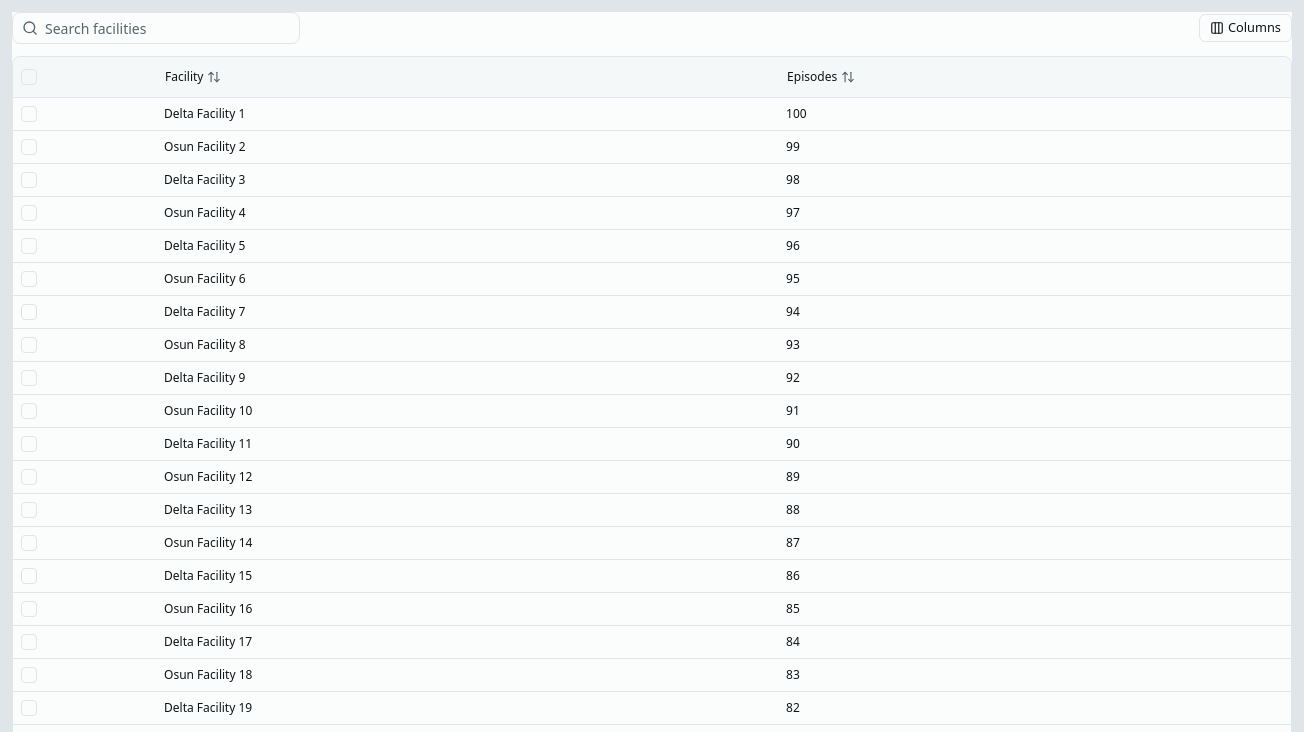
Scenario: DataTable › sorts a column when its header is clicked, and marks the header
Click the button "Episodes": (821,77) [778,63,864,91]
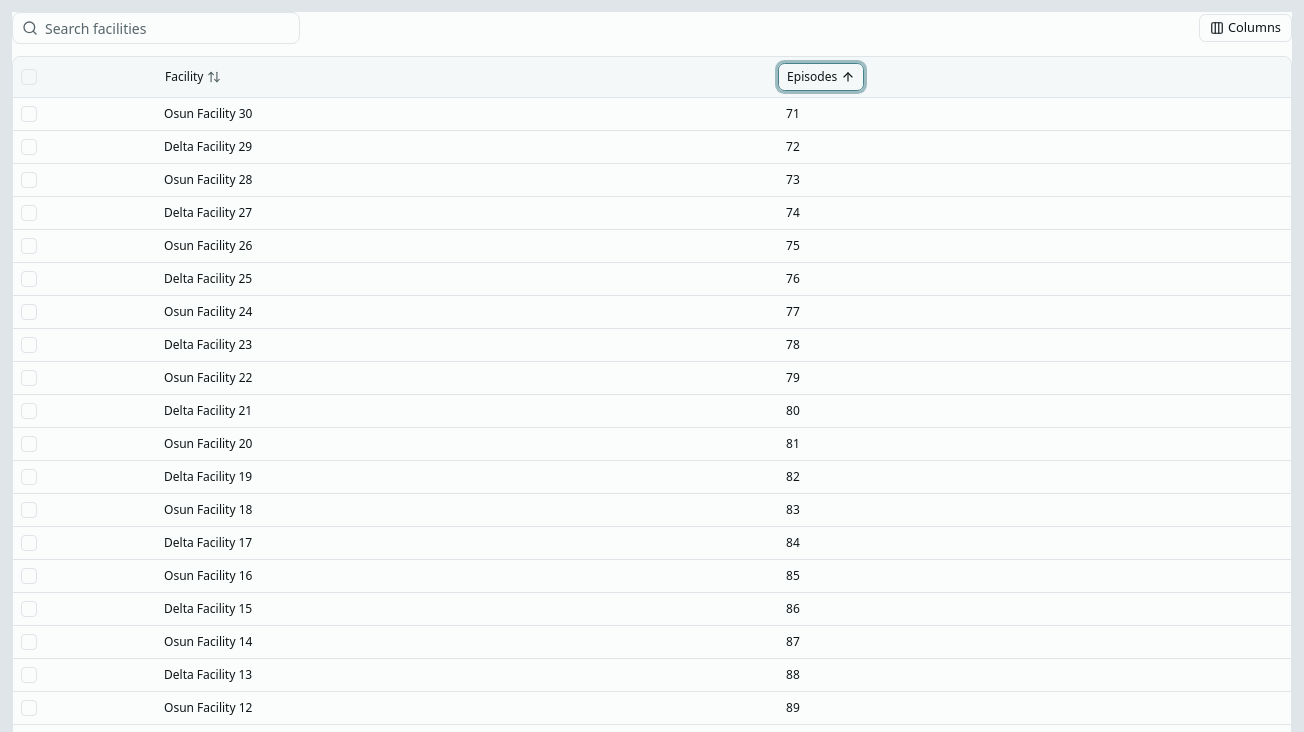
Expected: the text "71" is shown, [778,98,1291,130]
Click the button "Episodes": (821,77) [778,63,864,91]
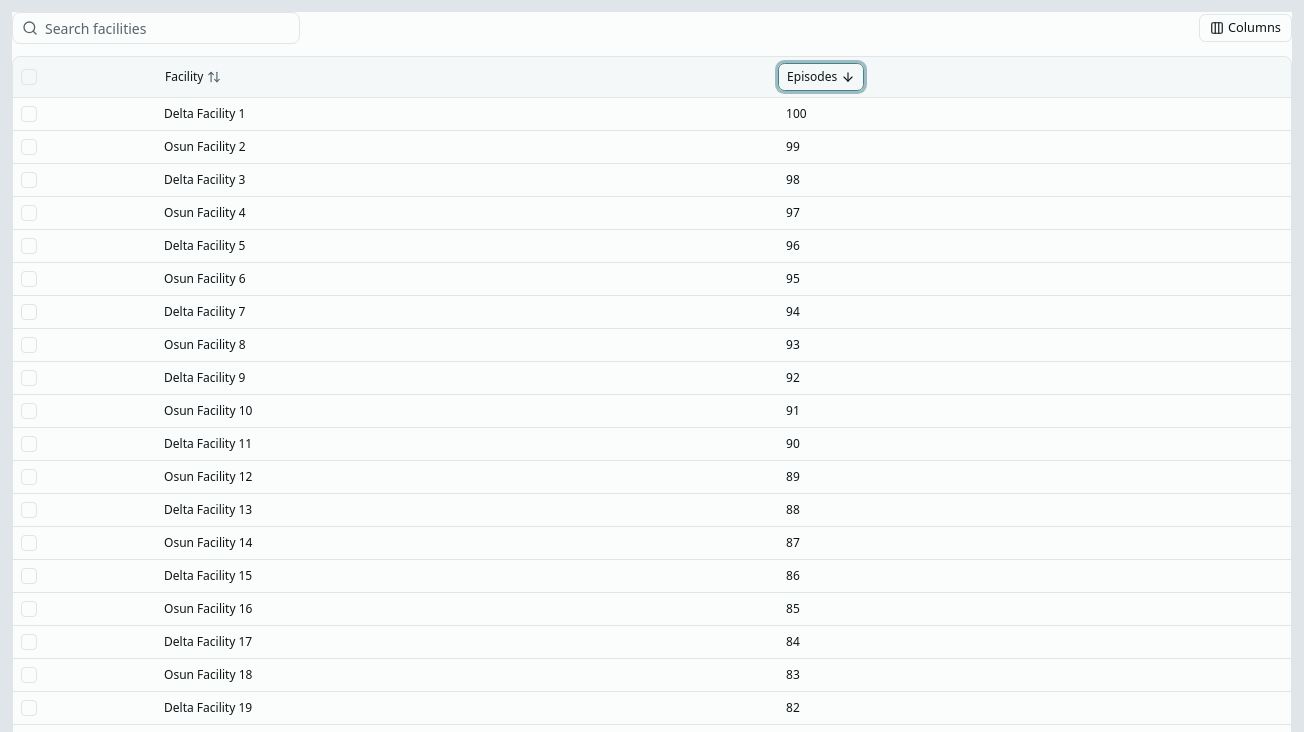
Expected: the text "100" is shown, [778,98,1291,130]
